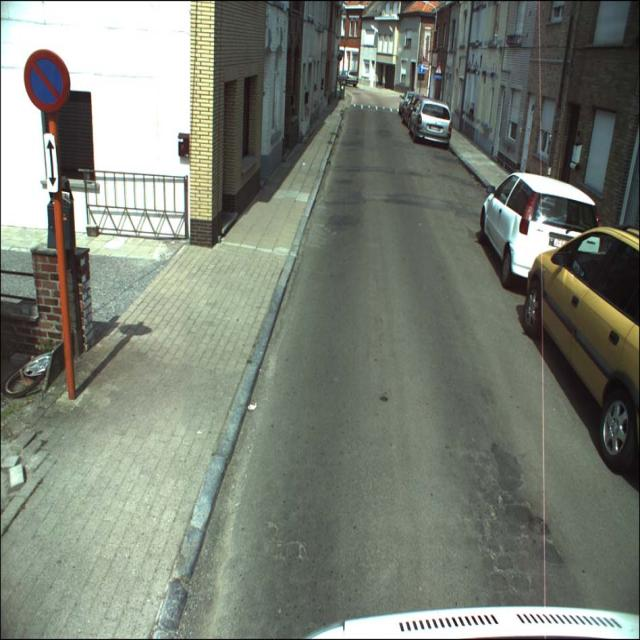parkyasak: (23, 50, 70, 113)
